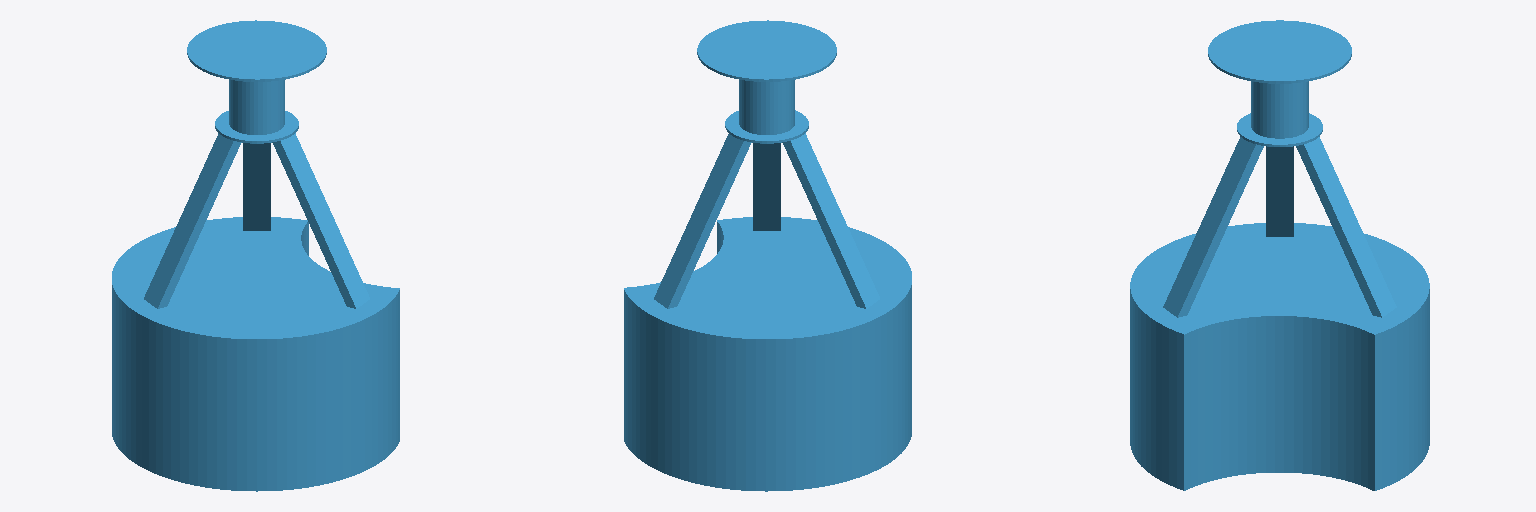
The robot description file, URDF, robot "musashi_player":
<!-- urdf/musashi.urdf -->
<robot name="musashi_player">

  <link name="foot_print" />

  <joint name="foot_print_to_base_link" type="fixed">
    <parent link="foot_print"/>
    <child link="base_link"/>
    <origin xyz="0 0 0" rpy="0 0 0"/>
  </joint>

  <link name="base_link">
    <visual>
      <geometry>
        <mesh filename="package://musashi_description/meshes/musashi_player.stl" scale="0.001 0.001 0.001"/>
      </geometry>
    </visual>
    <collision>
      <geometry>
        <mesh filename="package://musashi_description/meshes/musashi_player.stl" scale="0.001 0.001 0.001"/>
      </geometry>
    </collision>
  </link>

</robot>

--- Facts derived from the render (not from the file) ---
Views: 3 orthographic renders of the robot side by side, from view 1: azimuth 30°, elevation 25°; view 2: azimuth 150°, elevation 25°; view 3: azimuth 270°, elevation 25°.
Model musashi_player with 2 links and 1 joints (1 fixed), rooted at foot_print, posed every joint at zero.
Links seen in each view (by area): view 1: base_link; view 2: base_link; view 3: base_link.
Boxes of the visible links, bbox=[...] form: base_link: bbox=[112, 20, 399, 491]; base_link: bbox=[624, 20, 911, 491]; base_link: bbox=[1130, 20, 1429, 490].
Bounding box of the posed robot: 0.4616 × 0.5198 × 0.75 m (x, y, z).
Meshes: 1 distinct files referenced, 1 mesh visuals loaded (1 binary STL).
